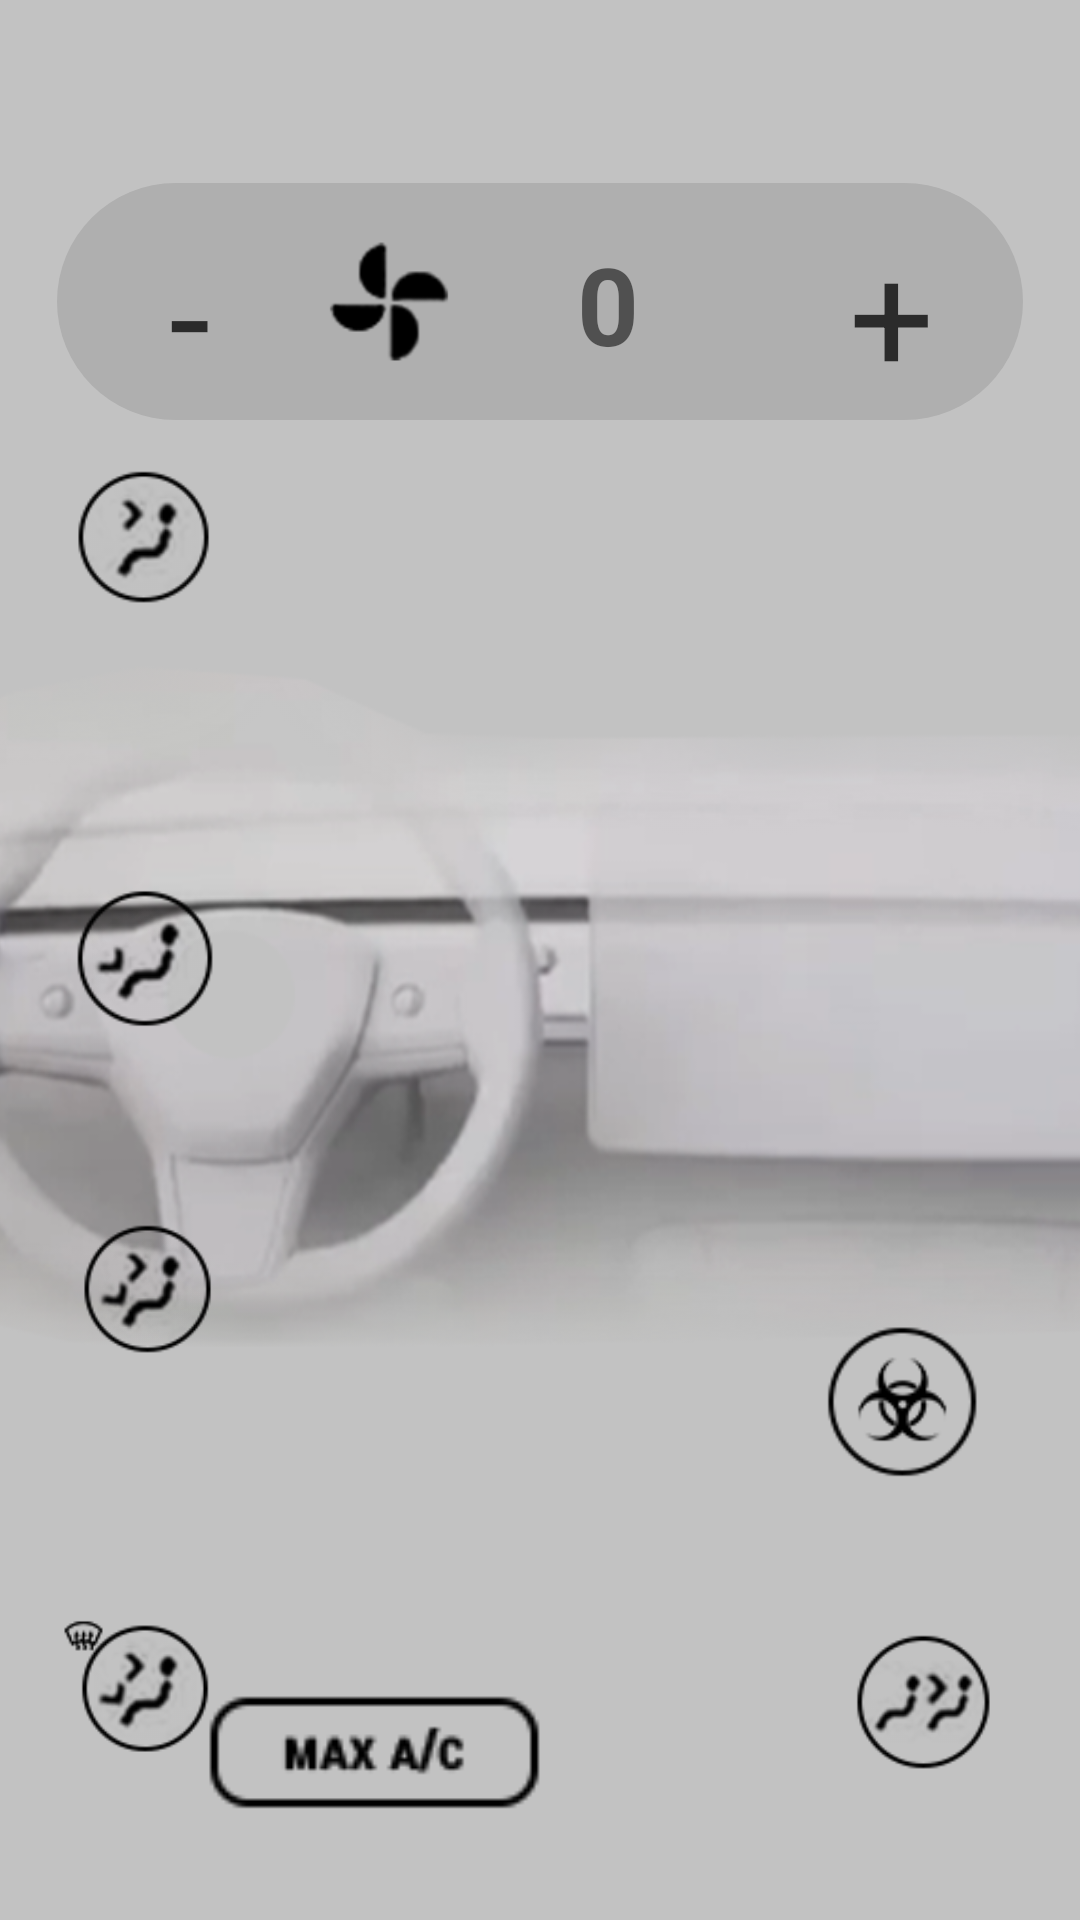

Named icons in this screenshot (1080×1920) and their bounding boxes, BBox(x1, y1, x2, y2):
biohazard: BBox(828, 1327, 977, 1476)
down: BBox(40, 864, 250, 1059)
fan: BBox(330, 242, 448, 361)
rearfan: BBox(857, 1635, 990, 1769)
updown: BBox(40, 1192, 253, 1353)
